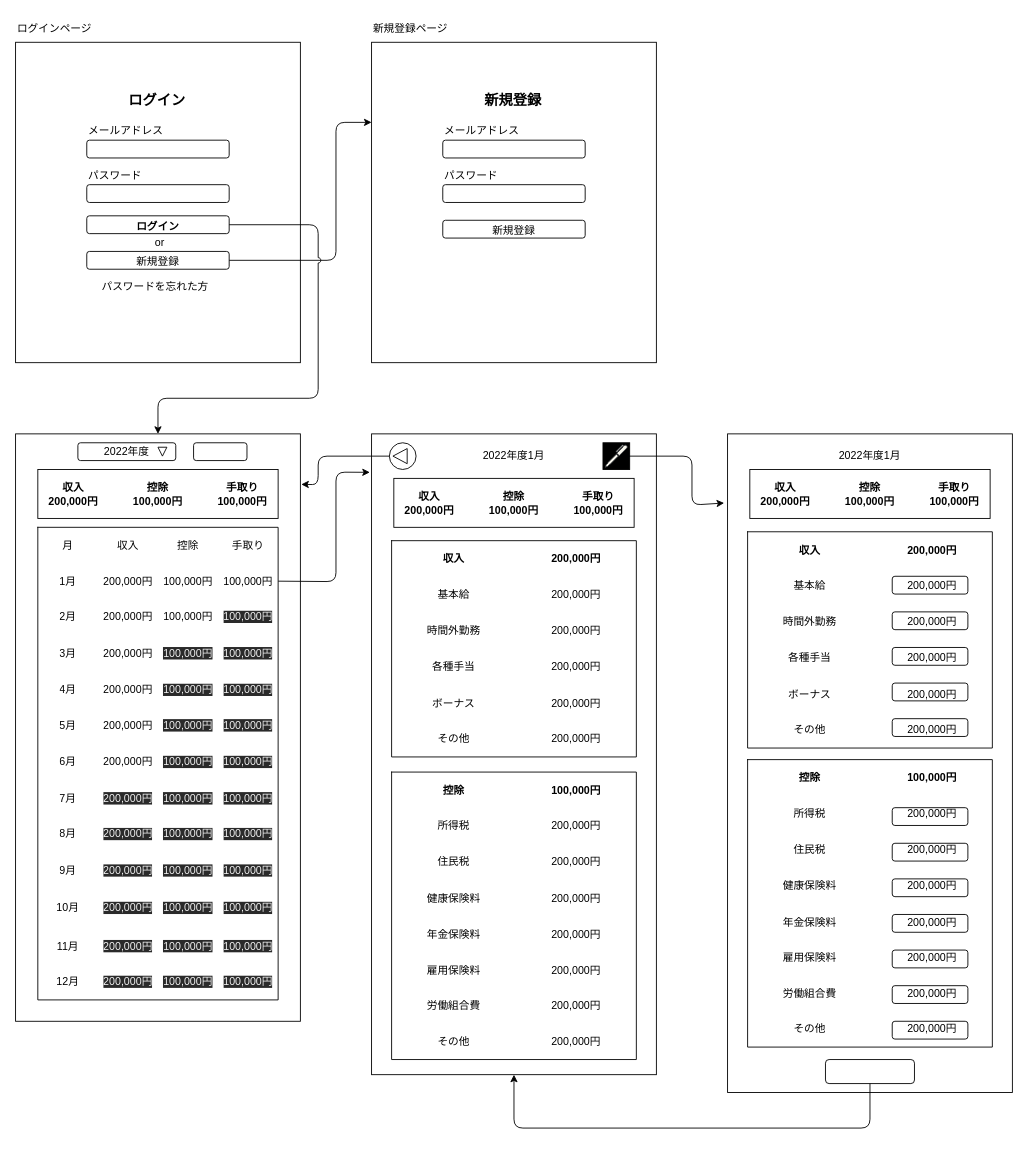
The diagram is 1028 pixels wide and 1151 high, and some of its shapes have lost their labels. The shapes that lost their labels are listed below. From the top down, each one's box as (x1, y1, x2, y2) in pixels, then its label:
(193, 442, 247, 461): ＋追加
(825, 1059, 914, 1084): 保存
